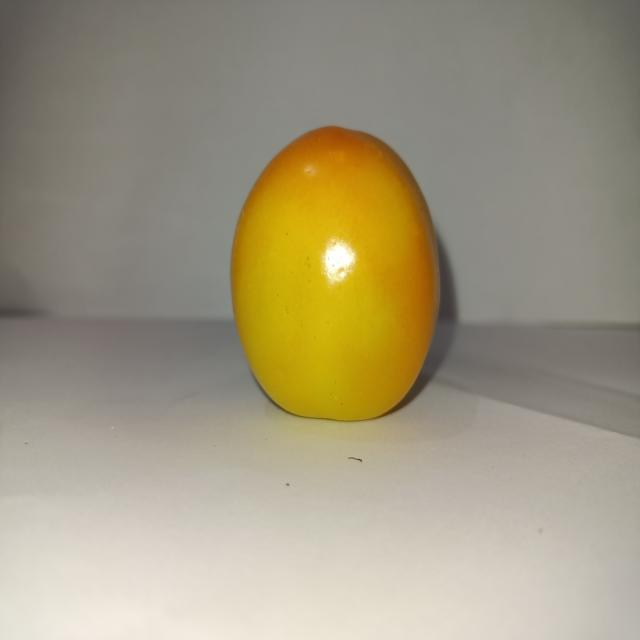Red: (228, 124, 442, 422)
